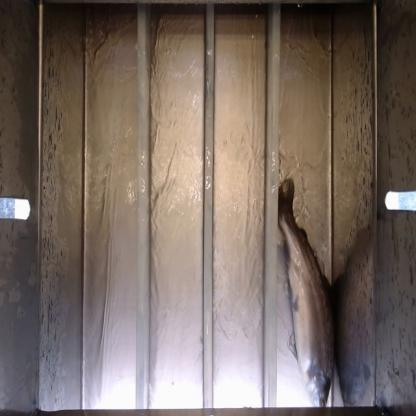pezw: (278, 173, 334, 406)
